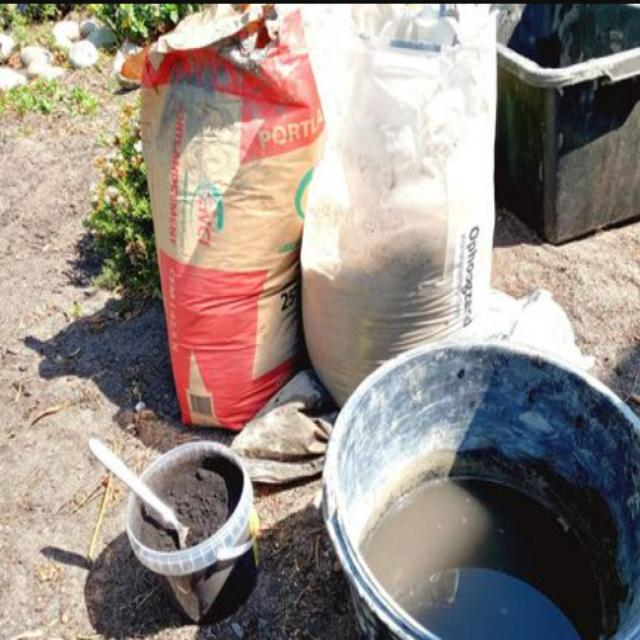KantongSemen: (128, 9, 325, 434), (293, 3, 510, 376)
